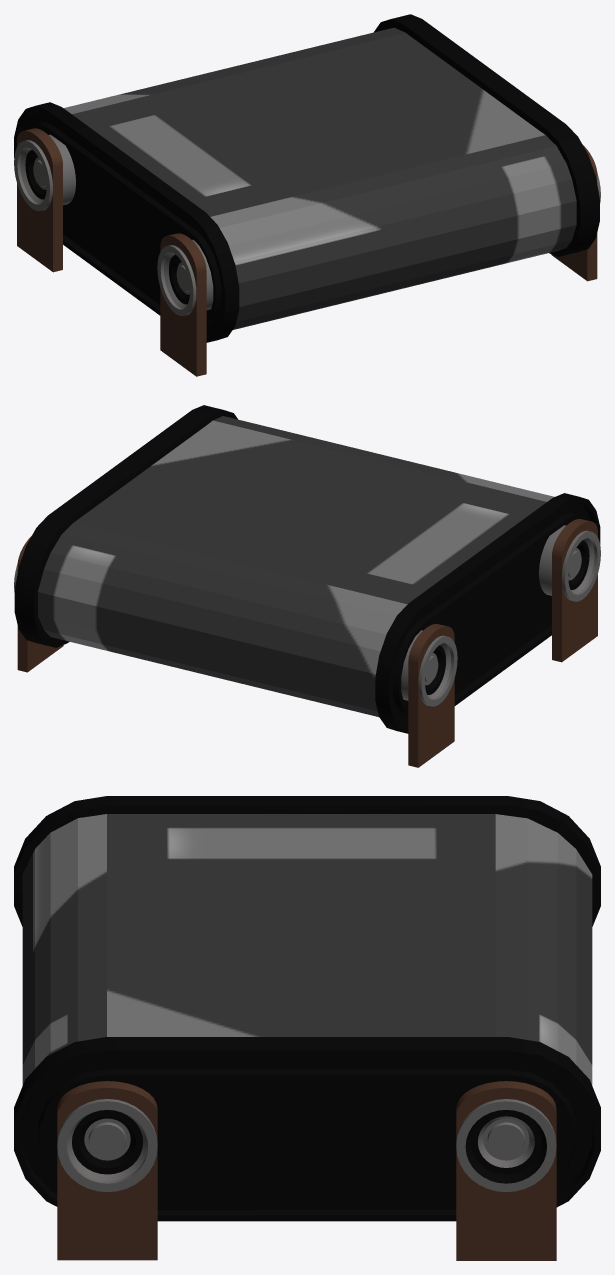
File: Conveyor.fbx
3 renders of one model, top to bottom at view 1: azimuth 30°, elevation 25°; view 2: azimuth 150°, elevation 25°; view 3: azimuth 270°, elevation 25°, orthographic. The views are drawn at different scales.
Parts seen in each view (by area): view 1: Cube, Frame; view 2: Cube, Frame; view 3: Cube, Frame.
Part boxes in pixels (box(x1,y1,x2,y2)): Cube: box(40, 27, 576, 329); Frame: box(14, 14, 600, 376); Cube: box(38, 416, 572, 716); Frame: box(14, 405, 600, 767); Cube: box(22, 814, 592, 1190); Frame: box(14, 796, 600, 1260).
Bounding box in the file's own units: 196 × 66.57 × 176.
